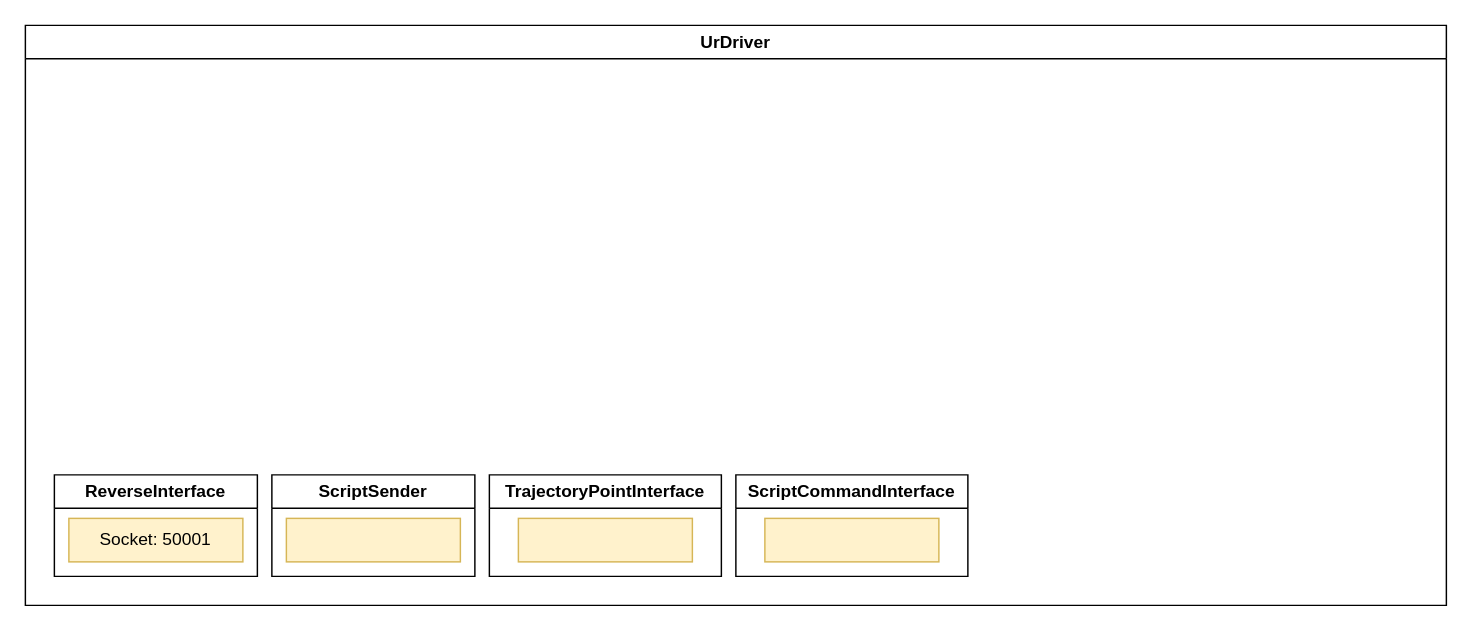
Some shapes in this 1472 by 631 pixel diagram are drawn without their labels. Here are the shapes that lost their labels. From the top down, the centre of each, then its label:
At point 372,539: "Socket: 50002".
At point 604,539: "Socket: 50003".
At point 851,539: "Socket: 50004".
